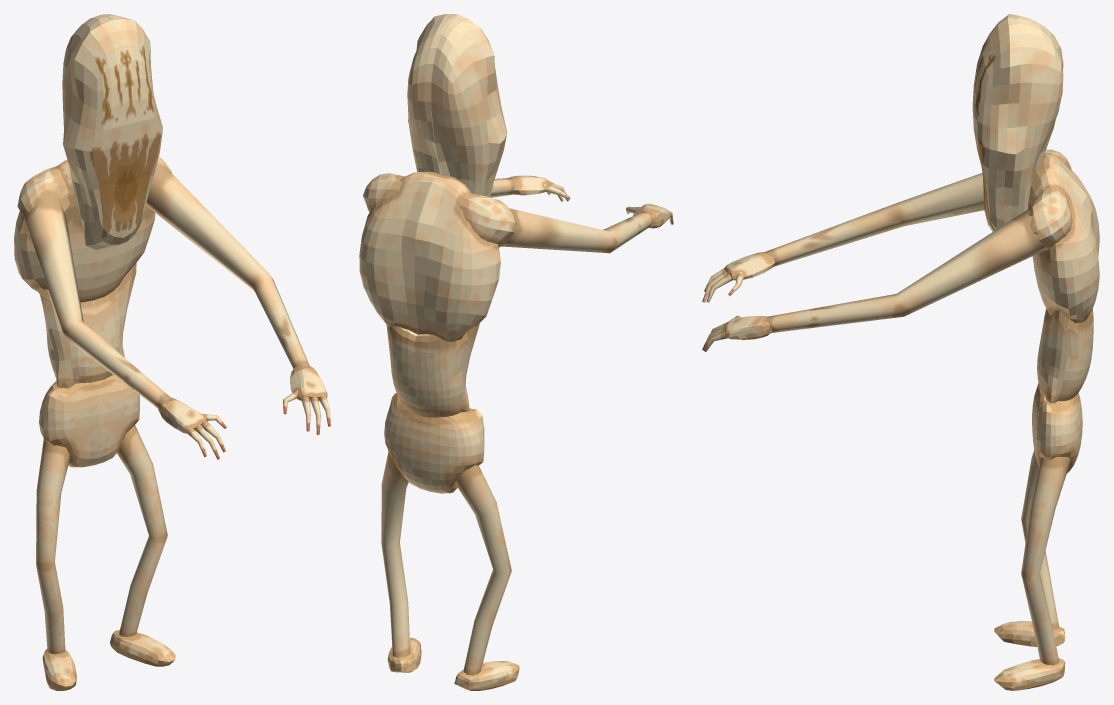
File: ddddd.glb
3 renders of one model, left to right at view 1: azimuth 30°, elevation 25°; view 2: azimuth 150°, elevation 25°; view 3: azimuth 270°, elevation 25°, orthographic.
Parts seen in each view (by area): view 1: BézierCurve; view 2: BézierCurve; view 3: BézierCurve.
Part boxes in pixels (bbox=[...]): BézierCurve: bbox=[14, 14, 330, 690]; BézierCurve: bbox=[359, 14, 673, 690]; BézierCurve: bbox=[702, 14, 1099, 690].
Bounding box in the file's own units: 0.5811 × 1.73 × 0.9673.
Materials: 10 (10 with a texture image).
